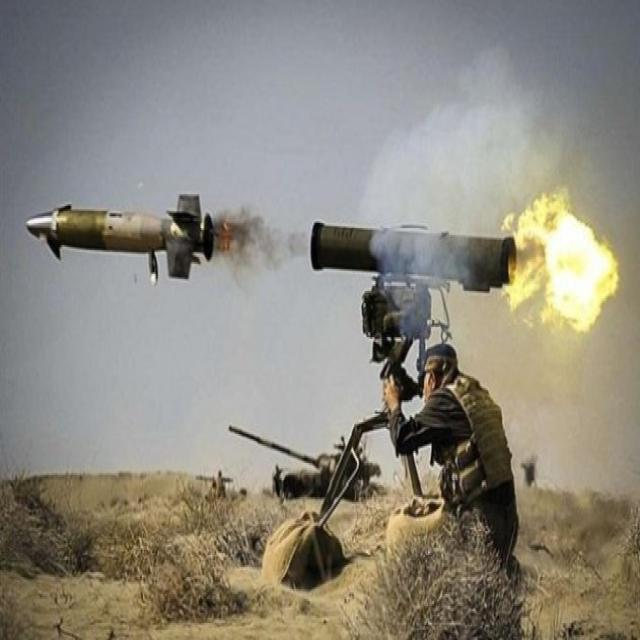bazooka: (299, 223, 522, 293)
